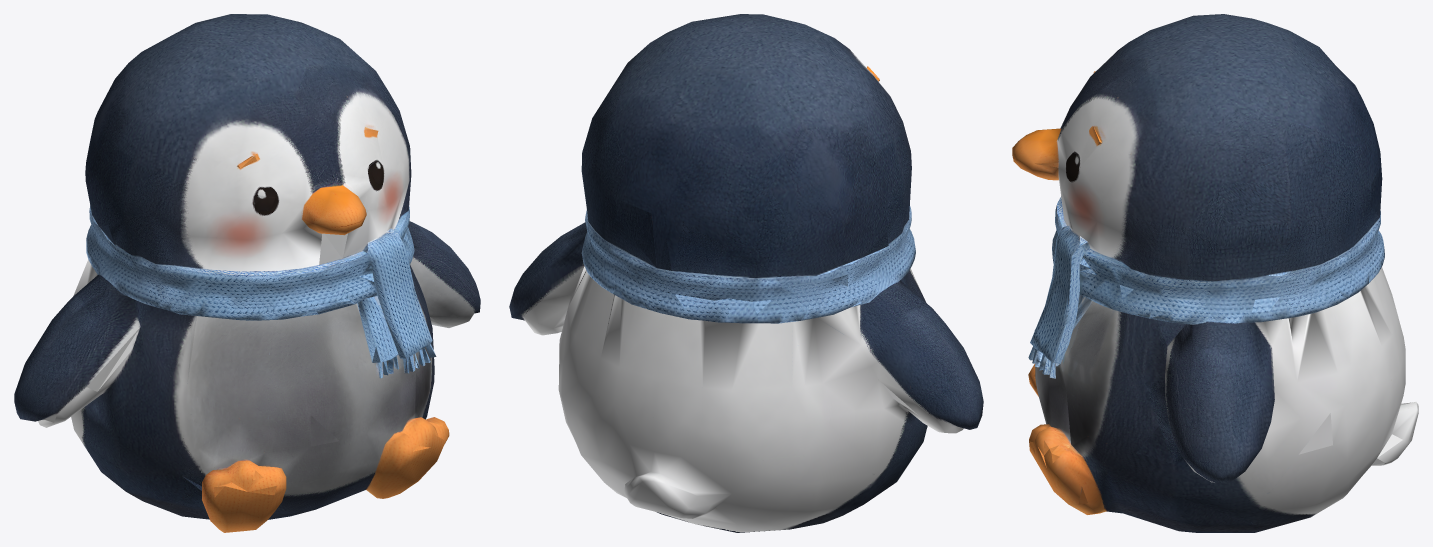
File: PeluchePingouin.fbx
3 renders of one model, left to right at view 1: azimuth 30°, elevation 25°; view 2: azimuth 150°, elevation 25°; view 3: azimuth 270°, elevation 25°, orthographic.
Parts seen in each view (by area): view 1: Mesh_0; view 2: Mesh_0; view 3: Mesh_0.
Part boxes in pixels (x1,y1,x2,y2): Mesh_0: (14, 14, 480, 532); Mesh_0: (509, 14, 983, 532); Mesh_0: (1012, 14, 1418, 532).
Bounding box in the file's own units: 190 × 186 × 144.
Materials: 1 (1 with a texture image).
